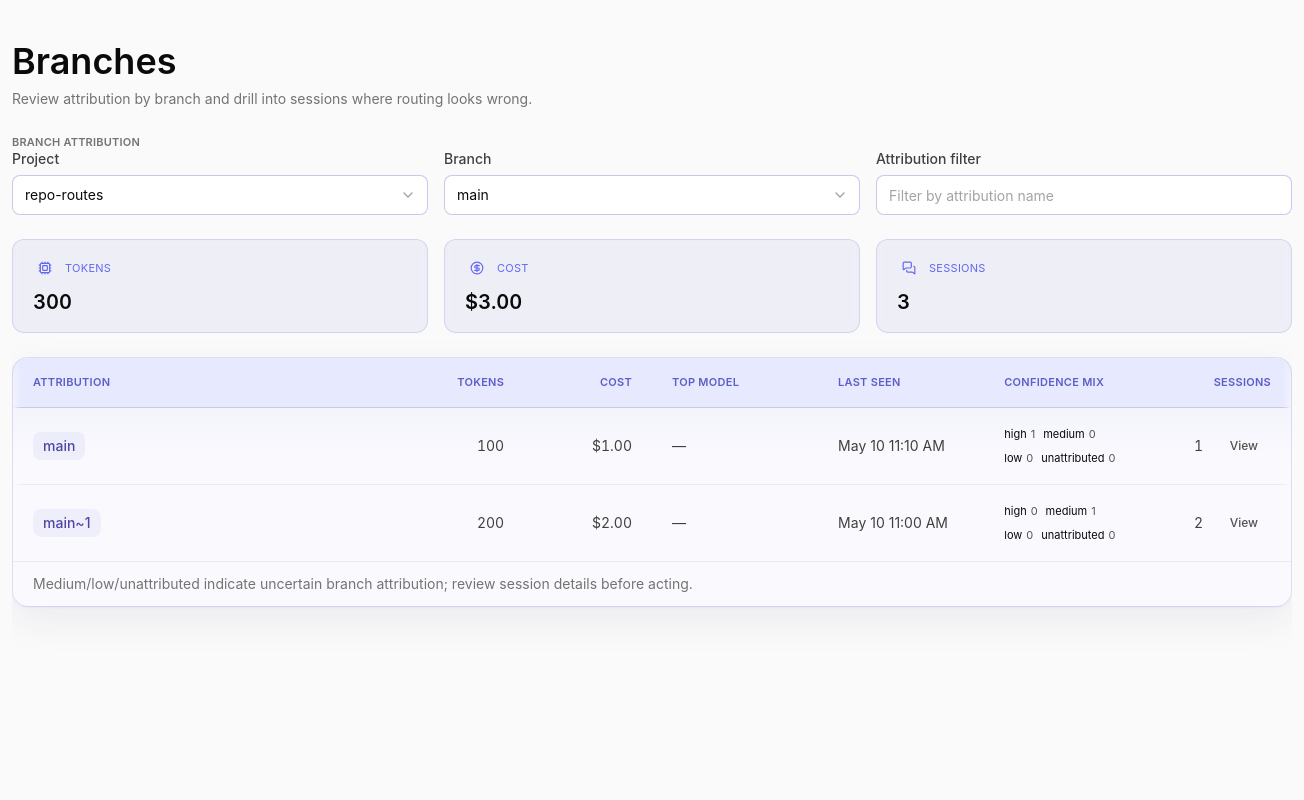
Scenario: BranchesPage › filters attribution rows and totals by selected real branch
The image size is (1304, 800).
Check: the text "main~1" is shown, box 33,509 -> 100,537
Check: the text "900" is not shown
Select "release" in the dropdown labelled "Branch" at (652, 196), box 444,176 -> 860,216
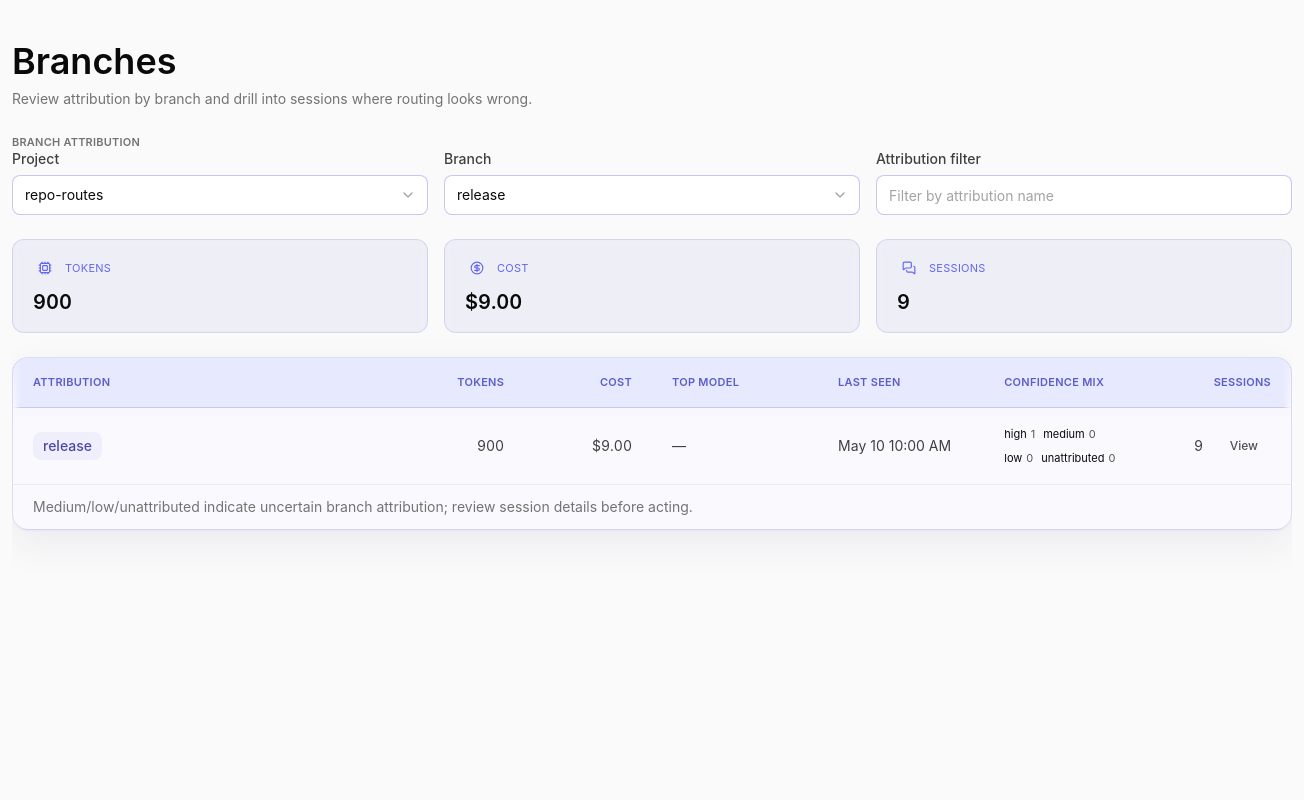
Check: the text "main~1" is gone
Check: the text "900" is shown, box 33,290 -> 72,314
Check: the text "$9.00" is shown, box 465,290 -> 522,314
